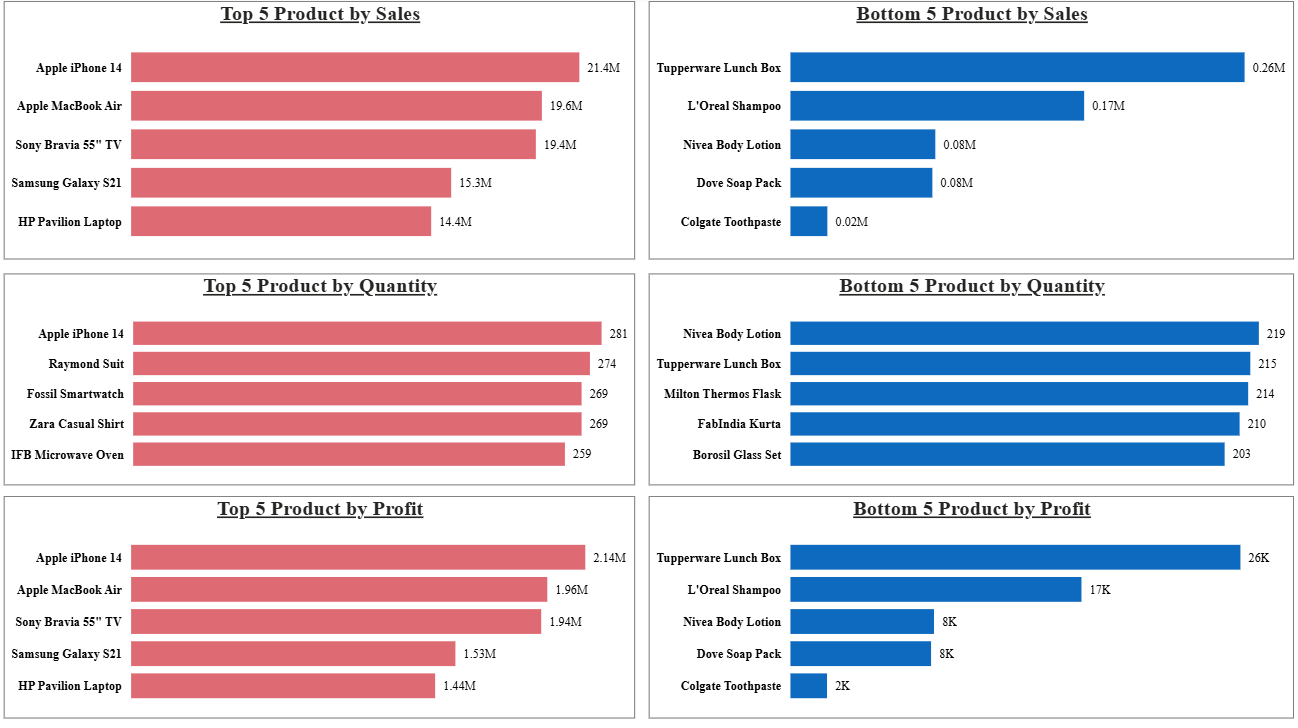

This screenshot's page, from the dashboard's own definition file:
{"tool":"powerbi","page":{"name":"Top/Bottom 5 Analysis","canvas":[1280,720],"ordinal":1},"visuals":[{"type":"barChart","title":"Top 5 Product by Sales","fields":{"Category":["Dim Product.Product Name"],"Y":["Sum(Fact Table.Net Sales   )"]},"box":[8.2,5.5,617.5,252.5],"z":0},{"type":"barChart","title":"Bottom 5 Product by Sales","fields":{"Category":["Dim Product.Product Name"],"Y":["Sum(Fact Table.Net Sales   )"]},"box":[639.5,5.5,631.2,252.5],"z":1000},{"type":"barChart","title":"Top 5 Product by Quantity","fields":{"Category":["Dim Product.Product Name"],"Y":["Sum(Fact Table.Units Sold)"]},"box":[8.2,271.7,617.5,207.2],"z":2000},{"type":"barChart","title":"Bottom 5 Product by Quantity","fields":{"Category":["Dim Product.Product Name"],"Y":["Sum(Fact Table.Units Sold)"]},"box":[639.5,271.7,631.2,207.2],"z":3000},{"type":"barChart","title":"Top 5 Product by Profit","fields":{"Category":["Dim Product.Product Name"],"Y":["Sum(Fact Table.Profit)"]},"box":[8.6,489.1,617.5,217.7],"z":4000},{"type":"barChart","title":"Bottom 5 Product by Profit","fields":{"Category":["Dim Product.Product Name"],"Y":["Sum(Fact Table.Profit)"]},"box":[639.5,489.1,631,217.7],"z":5000}]}

Visuals, with their boxes in screenshot pixels (x1, y1, x2, y2), scaled from the page's 1280x720 canvas onto the 1298x728 screenshot:
"Top 5 Product by Sales" barChart: box=[8, 6, 634, 261]
"Bottom 5 Product by Sales" barChart: box=[648, 6, 1289, 261]
"Top 5 Product by Quantity" barChart: box=[8, 275, 634, 484]
"Bottom 5 Product by Quantity" barChart: box=[648, 275, 1289, 484]
"Top 5 Product by Profit" barChart: box=[9, 495, 635, 715]
"Bottom 5 Product by Profit" barChart: box=[648, 495, 1288, 715]
